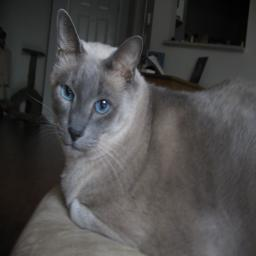catnose: (67, 124, 85, 144)
